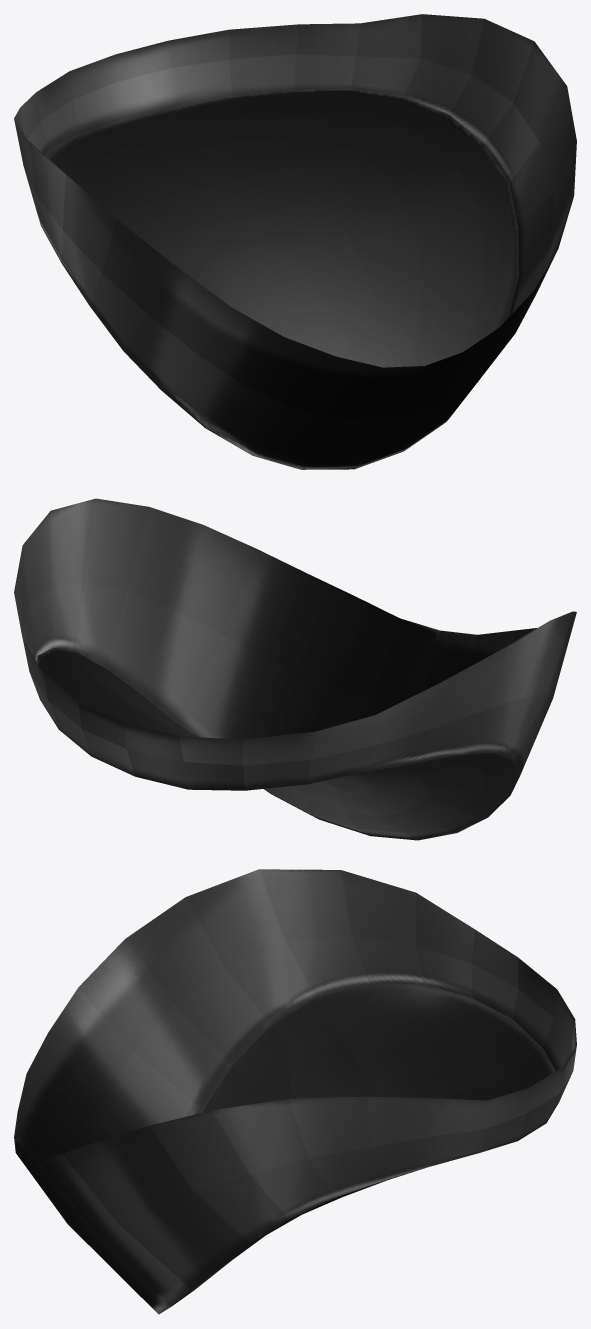
File: YVR_d3_left_trigger.obj
3 renders of one model, top to bottom at view 1: azimuth 30°, elevation 25°; view 2: azimuth 150°, elevation 25°; view 3: azimuth 270°, elevation 25°, orthographic.
Parts seen in each view (by area): view 1: yvr_d3_left_trigger; view 2: yvr_d3_left_trigger; view 3: yvr_d3_left_trigger.
Boxes of the visible parts, x1,y1,x2,y2 form: yvr_d3_left_trigger: (14,14,576,469); yvr_d3_left_trigger: (14,498,576,840); yvr_d3_left_trigger: (14,869,576,1314).
Size of the model in its own units: 0.0308 by 0.0192 by 0.0315.
1 material, 1 textured.
